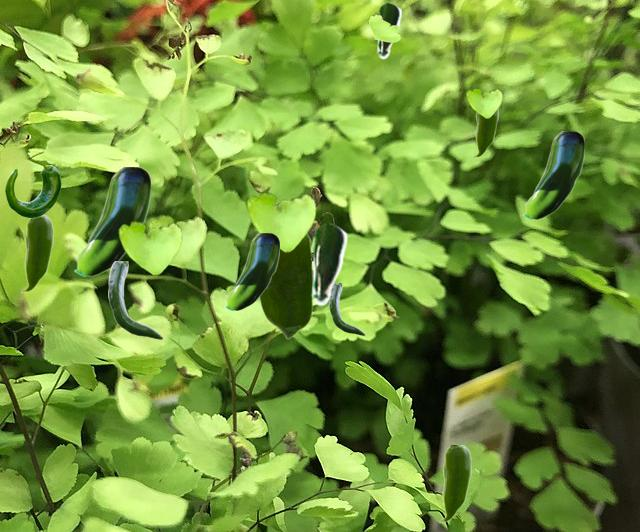green_chili: (73, 167, 149, 276), (255, 232, 312, 338), (522, 131, 583, 219), (224, 233, 278, 310), (108, 261, 162, 338), (309, 222, 347, 305), (5, 165, 60, 216), (20, 215, 52, 292), (438, 445, 470, 522), (329, 283, 364, 334), (375, 2, 401, 58), (472, 111, 497, 157)
